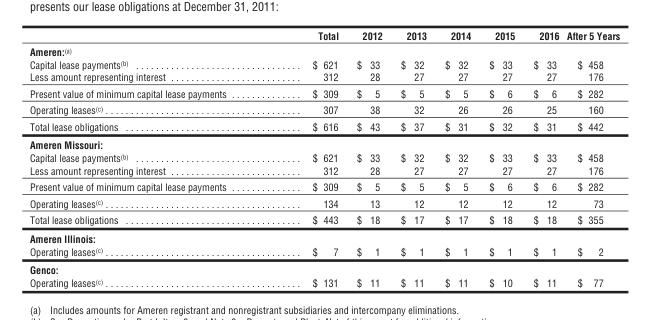table: (28, 28, 619, 288)
table column: (28, 28, 268, 288), (268, 28, 346, 288), (562, 28, 619, 288), (390, 28, 435, 288), (346, 28, 390, 288), (435, 28, 479, 288), (479, 28, 523, 288), (523, 28, 562, 288)
table column header: (28, 28, 619, 43)
table projected row header: (28, 135, 619, 151), (28, 228, 619, 244), (28, 260, 619, 276), (28, 43, 619, 57)
table row: (28, 117, 619, 135), (28, 84, 619, 101), (28, 194, 619, 211), (28, 211, 619, 228), (28, 101, 619, 117), (28, 135, 619, 151), (28, 178, 619, 194), (28, 228, 619, 244), (28, 244, 619, 260), (28, 260, 619, 276), (28, 28, 619, 43), (28, 163, 619, 178), (28, 43, 619, 57), (28, 70, 619, 84), (28, 57, 619, 70), (28, 151, 619, 163), (28, 276, 619, 288)
